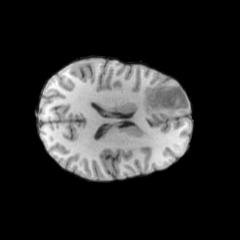glioma: (144, 84, 189, 116)
